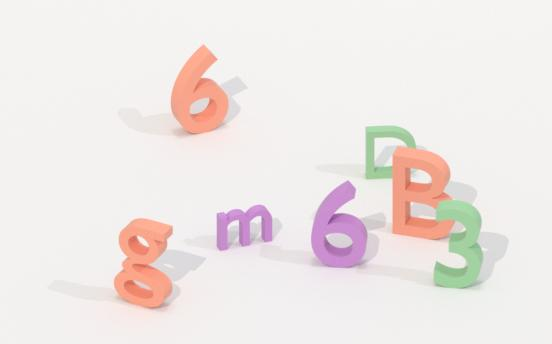3: (429, 197, 488, 288)
6: (164, 42, 234, 134), (308, 181, 372, 269)
b: (389, 147, 460, 240)
d: (362, 123, 417, 178)
g: (114, 216, 177, 313)
m: (211, 203, 279, 253)
